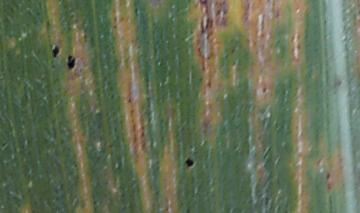tarspot: (198, 1, 214, 36), (64, 54, 77, 70), (50, 43, 60, 59), (184, 157, 194, 168), (261, 86, 268, 95), (324, 172, 331, 180)
